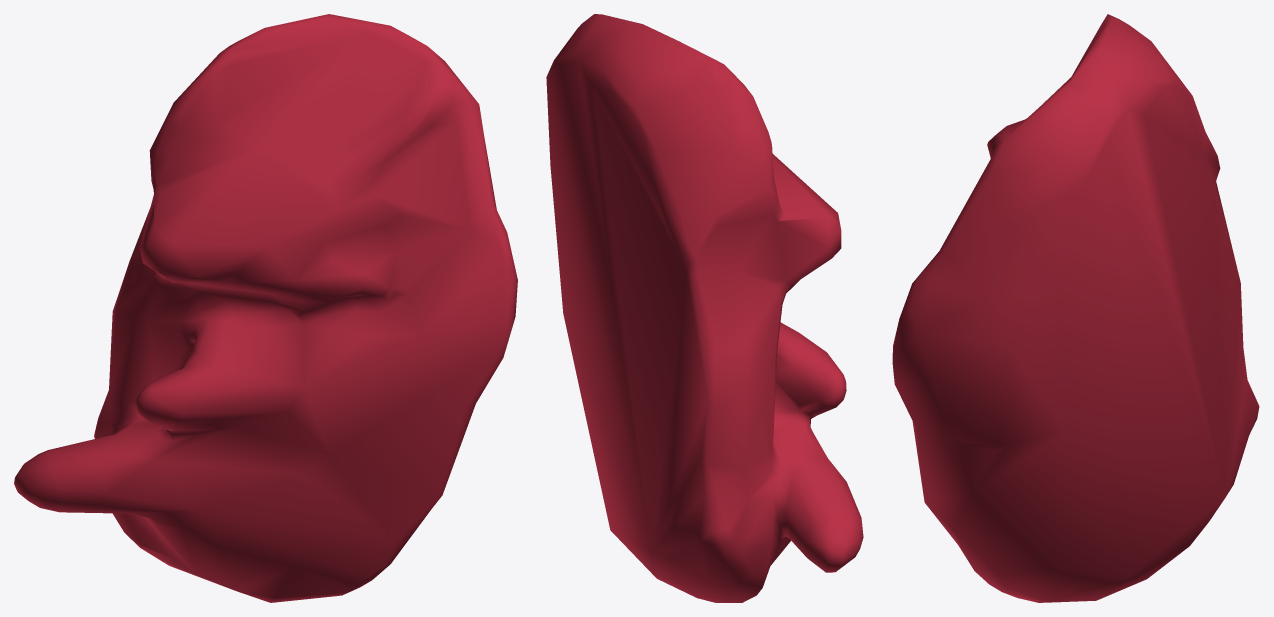
The model's file is septal-papillary-muscle-of-right-ventricle.glb.
The picture shows the model from 3 angles, left to right: view 1: azimuth 30°, elevation 25°; view 2: azimuth 150°, elevation 25°; view 3: azimuth 270°, elevation 25°; orthographic projection. The views are drawn at different scales.
Visible parts, largest first — view 1: Septal papillary muscle of right ventricle; view 2: Septal papillary muscle of right ventricle; view 3: Septal papillary muscle of right ventricle.
Part boxes in pixels (x1,y1,x2,y2): Septal papillary muscle of right ventricle: (14,14,517,602); Septal papillary muscle of right ventricle: (546,14,863,602); Septal papillary muscle of right ventricle: (892,14,1259,602).
Bounding box in the file's own units: 0.0201 × 0.0278 × 0.0159.
